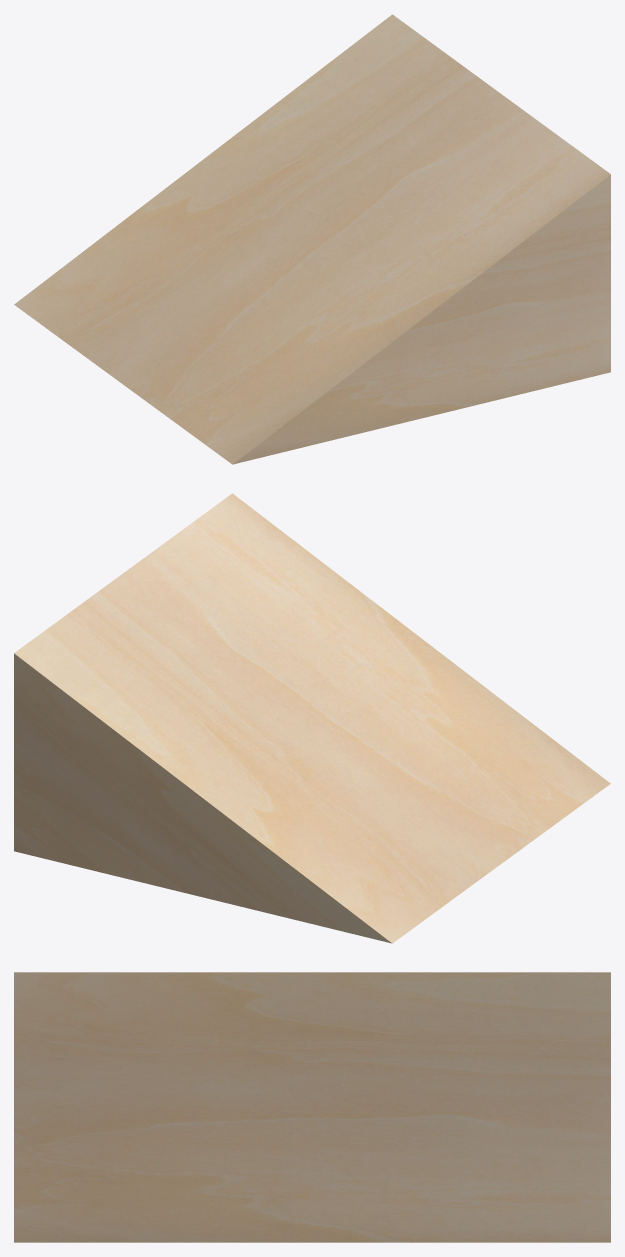
File: ramp2.fbx
3 renders of one model, top to bottom at view 1: azimuth 30°, elevation 25°; view 2: azimuth 150°, elevation 25°; view 3: azimuth 270°, elevation 25°, orthographic. The views are drawn at different scales.
Visible parts, largest first — view 1: ramp2; view 2: ramp2; view 3: ramp2.
Part boxes in pixels (<box>): ramp2: <box>14,14,610,464</box>; ramp2: <box>14,493,610,943</box>; ramp2: <box>14,972,610,1242</box>.
Size of the model in its own units: 5 by 2.5 by 5.
